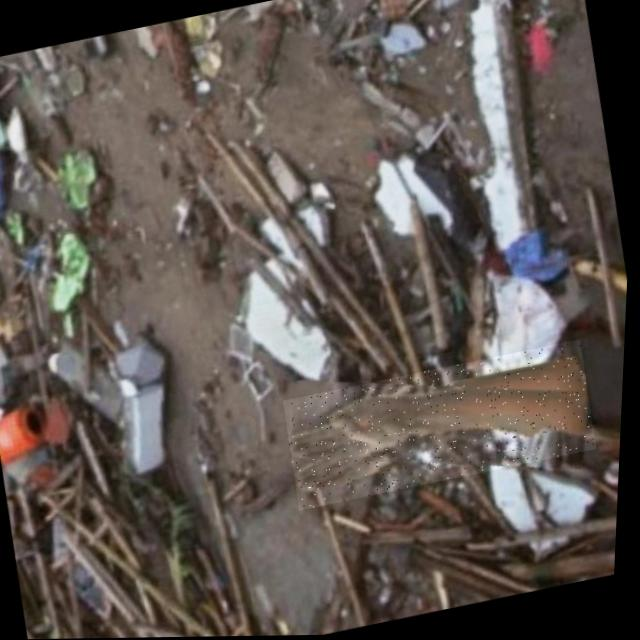Person in Rubble: (283, 340, 604, 511)
